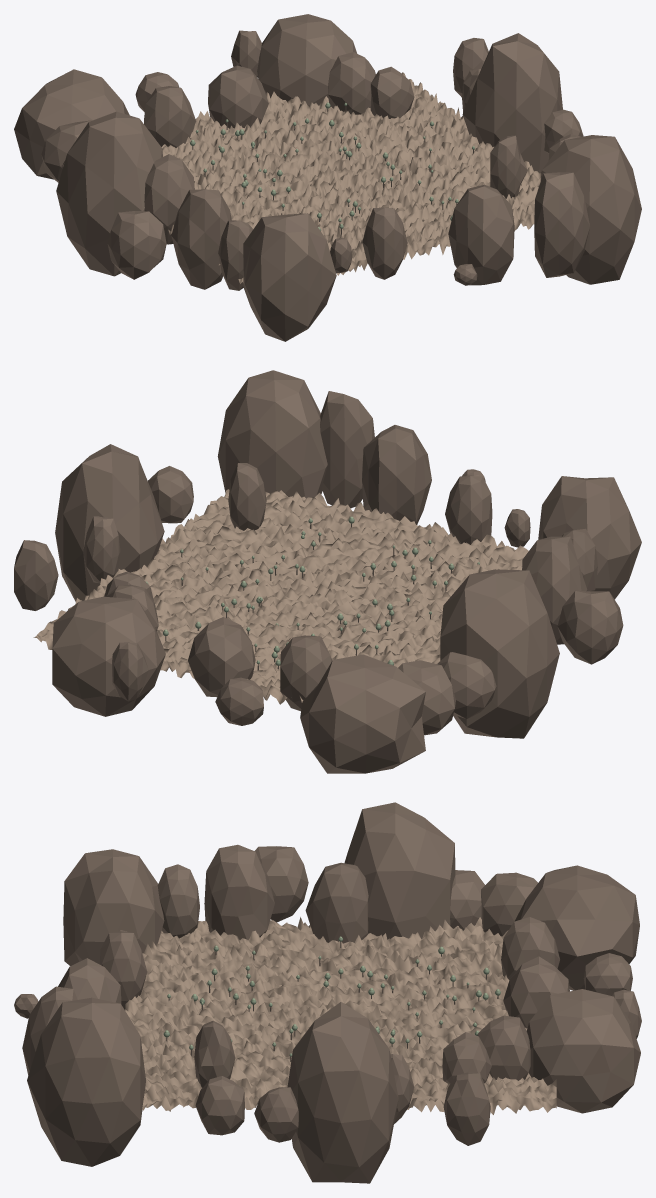
Rendered from valorant_terrain.gltf.
3 renders of one model, top to bottom at view 1: azimuth 30°, elevation 25°; view 2: azimuth 150°, elevation 25°; view 3: azimuth 270°, elevation 25°, orthographic. The views are drawn at different scales.
Bounding box in the file's own units: 344 × 103 × 350.
